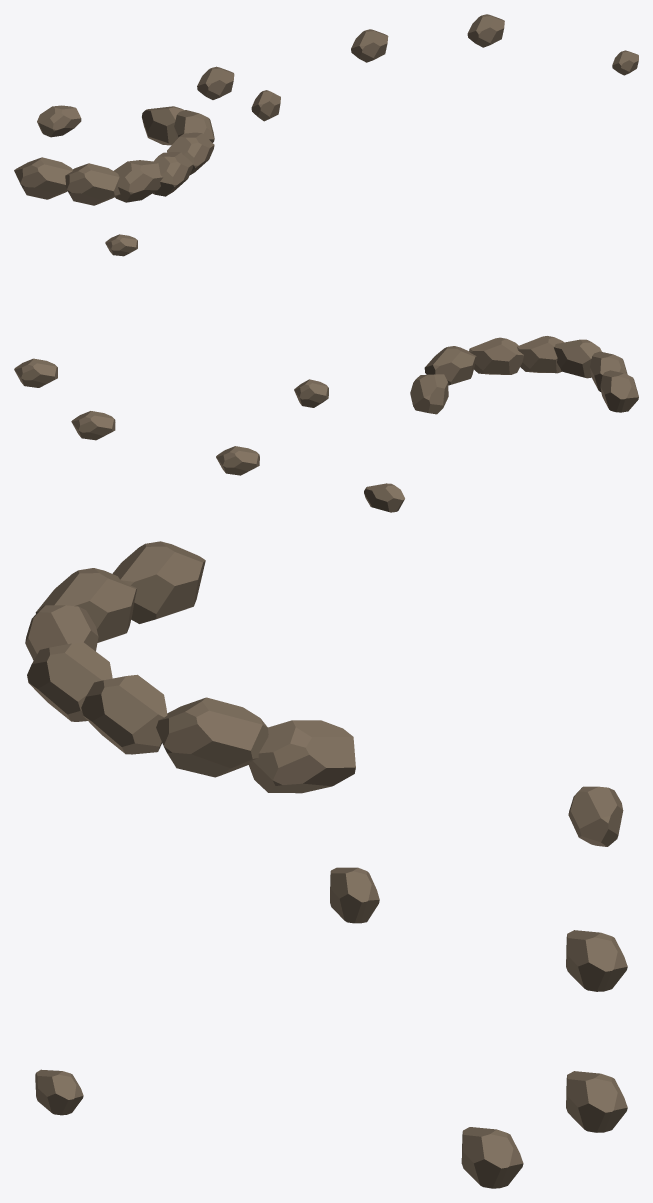
The model's file is 3_stone1_.fbx.
3 views of the same model, one above another, from view 1: azimuth 30°, elevation 25°; view 2: azimuth 150°, elevation 25°; view 3: azimuth 270°, elevation 25° (orthographic). The views are drawn at different scales.
Visible parts, largest first — view 1: Stone1_07, Stone1_08, Stone1_06, Stone1_05, Stone1_10, Stone1_01, Stone1_04, Stone1_12, Stone1_11, Stone1_02, Stone1_09, Stone1_03 (+1 smaller); view 2: Stone1_04, Stone1_09, Stone1_10, Stone1_06, Stone1_08, Stone1_05, Stone1_02, Stone1_11, Stone1_12, Stone1_01, Stone1_07, Stone1_03 (+1 smaller); view 3: Stone1_09, Stone1_10, Stone1_08, Stone1_04, Stone1_05, Stone1_07, Stone1_02, Stone1_11, Stone1_12, Stone1_06, Stone1_01, Stone1_03 (+1 smaller).
Part boxes in pixels (x1=…): Stone1_07: x1=65, y1=163, x2=120, y2=205; Stone1_08: x1=14, y1=157, x2=72, y2=199; Stone1_06: x1=114, y1=160, x2=162, y2=202; Stone1_05: x1=152, y1=152, x2=193, y2=196; Stone1_10: x1=142, y1=106, x2=184, y2=145; Stone1_01: x1=37, y1=105, x2=81, y2=137; Stone1_04: x1=167, y1=132, x2=214, y2=175; Stone1_12: x1=467, y1=14, x2=504, y2=47; Stone1_11: x1=197, y1=66, x2=234, y2=99; Stone1_02: x1=351, y1=29, x2=388, y2=62; Stone1_09: x1=174, y1=110, x2=214, y2=142; Stone1_03: x1=251, y1=90, x2=280, y2=121; Stone1_04: x1=469, y1=337, x2=523, y2=374; Stone1_09: x1=424, y1=346, x2=476, y2=385; Stone1_10: x1=410, y1=374, x2=448, y2=414; Stone1_06: x1=554, y1=339, x2=601, y2=378; Stone1_08: x1=600, y1=370, x2=638, y2=412; Stone1_05: x1=517, y1=336, x2=563, y2=373; Stone1_02: x1=71, y1=411, x2=115, y2=440; Stone1_11: x1=216, y1=446, x2=259, y2=475; Stone1_12: x1=14, y1=358, x2=57, y2=387; Stone1_01: x1=364, y1=483, x2=404, y2=512; Stone1_07: x1=590, y1=351, x2=627, y2=391; Stone1_03: x1=294, y1=379, x2=328, y2=407; Stone1_09: x1=156, y1=697, x2=268, y2=777; Stone1_10: x1=248, y1=720, x2=355, y2=793; Stone1_08: x1=112, y1=541, x2=205, y2=623; Stone1_04: x1=81, y1=674, x2=167, y2=754; Stone1_05: x1=27, y1=642, x2=112, y2=721; Stone1_07: x1=35, y1=568, x2=136, y2=642; Stone1_02: x1=566, y1=1071, x2=627, y2=1132; Stone1_11: x1=566, y1=930, x2=627, y2=991; Stone1_12: x1=461, y1=1127, x2=523, y2=1188; Stone1_06: x1=25, y1=605, x2=98, y2=660; Stone1_01: x1=568, y1=786, x2=623, y2=846; Stone1_03: x1=330, y1=867, x2=379, y2=923.
Size of the model in its own units: 90.01 by 13.4 by 42.2.
